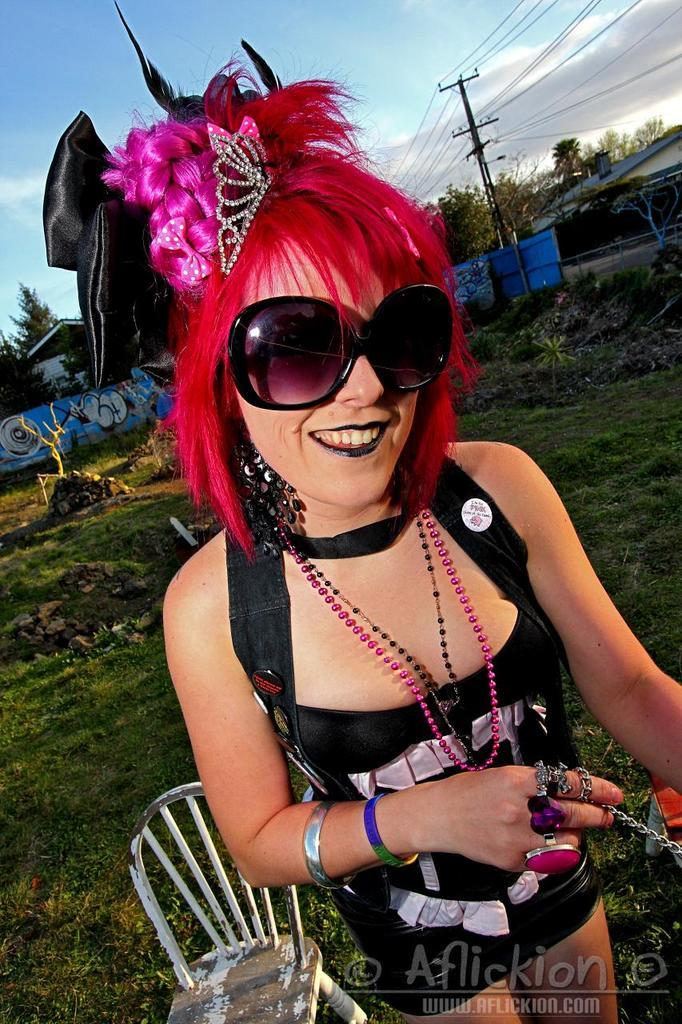Sem Máscara: (234, 242, 421, 502)
